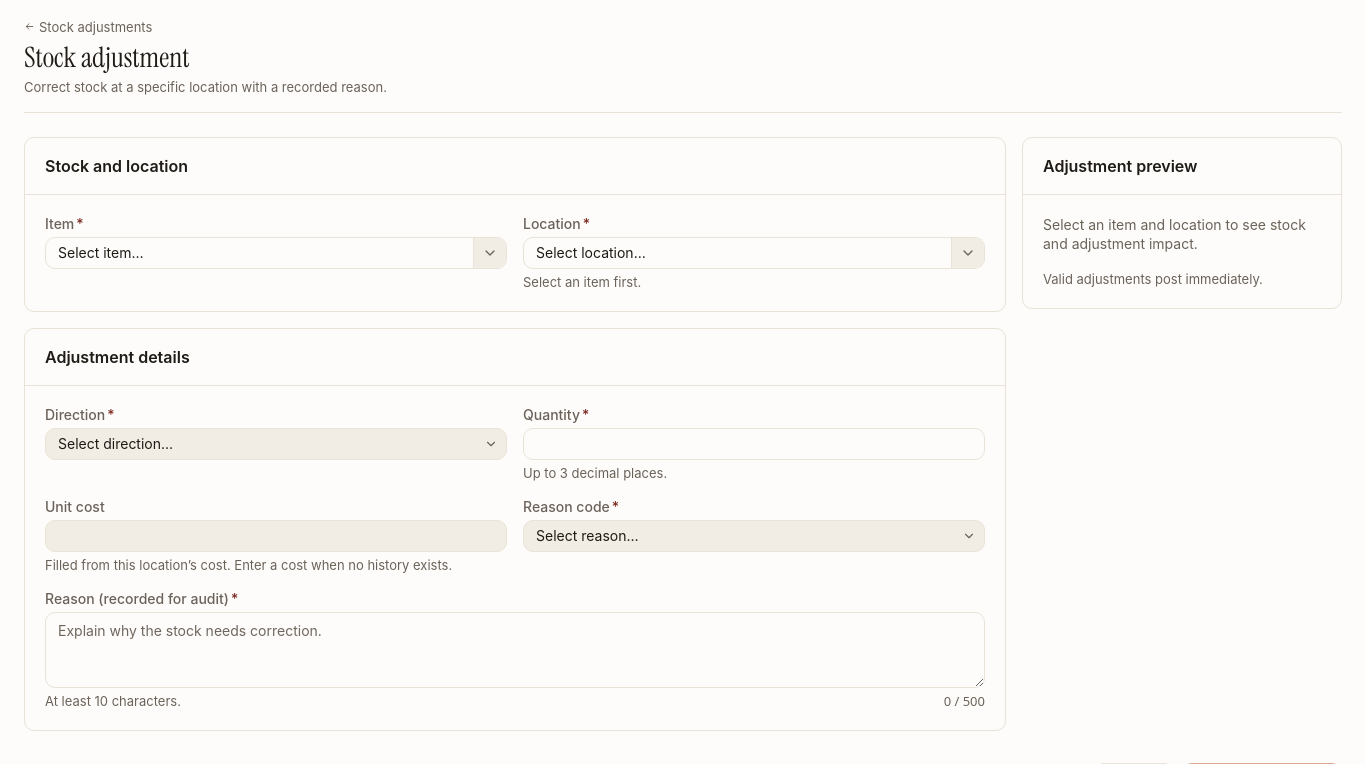
Test: autofills the only stocked location and its cost; outbound cost is read-only
The width and height of the screenshot is (1366, 764).
Focus the dropdown labelled "Item*" at (260, 252), box [46,238,473,268]
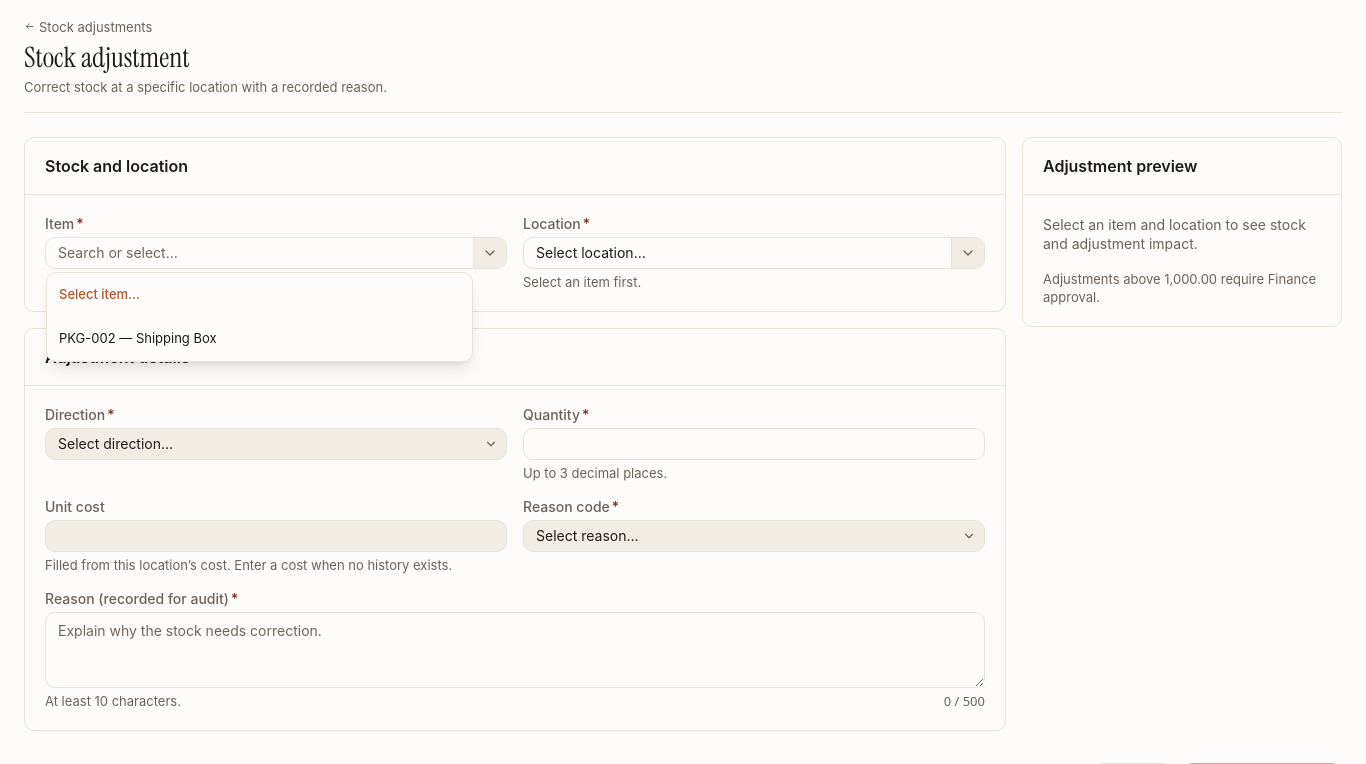
Click the option "PKG-002 — Shipping Box" at (138, 338), box [47,316,472,360]
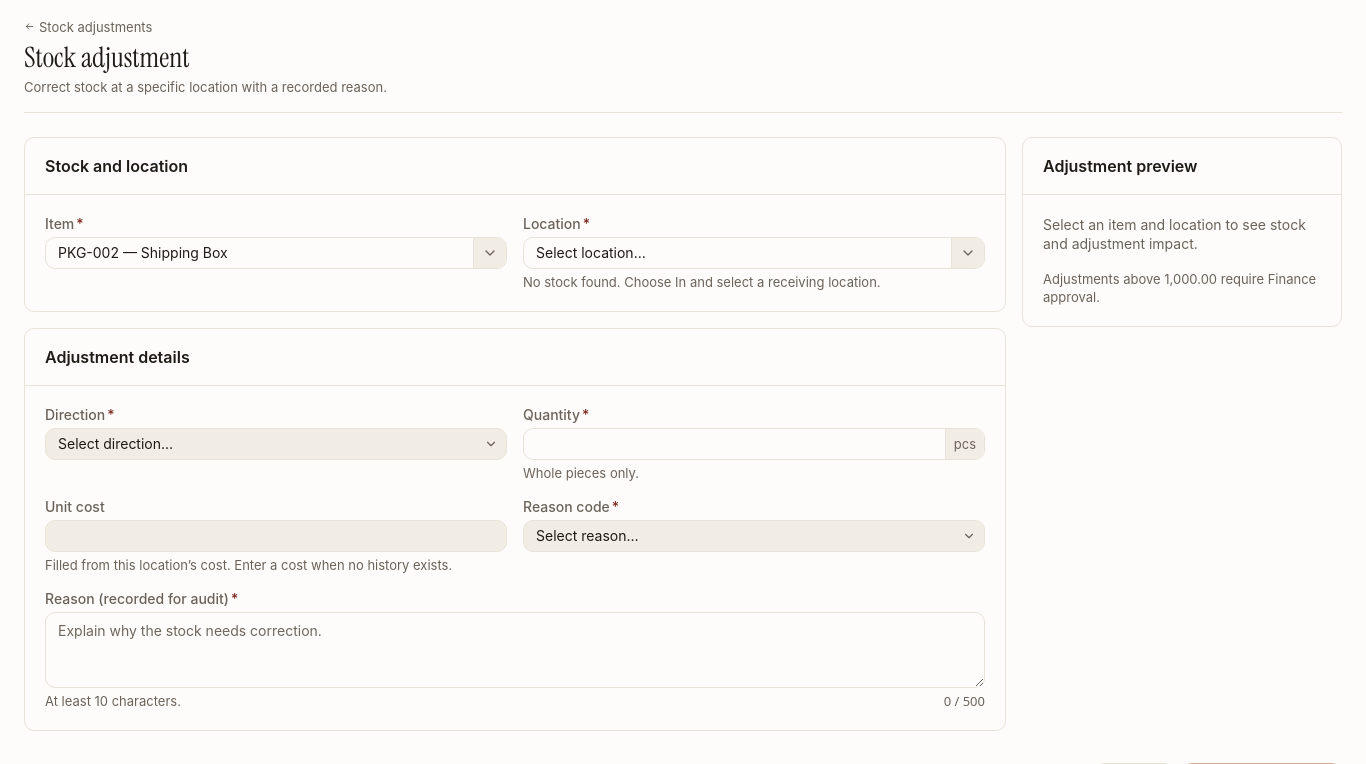
Select "Out" in the dropdown labelled "Direction*" at (276, 444), box [46,428,506,458]
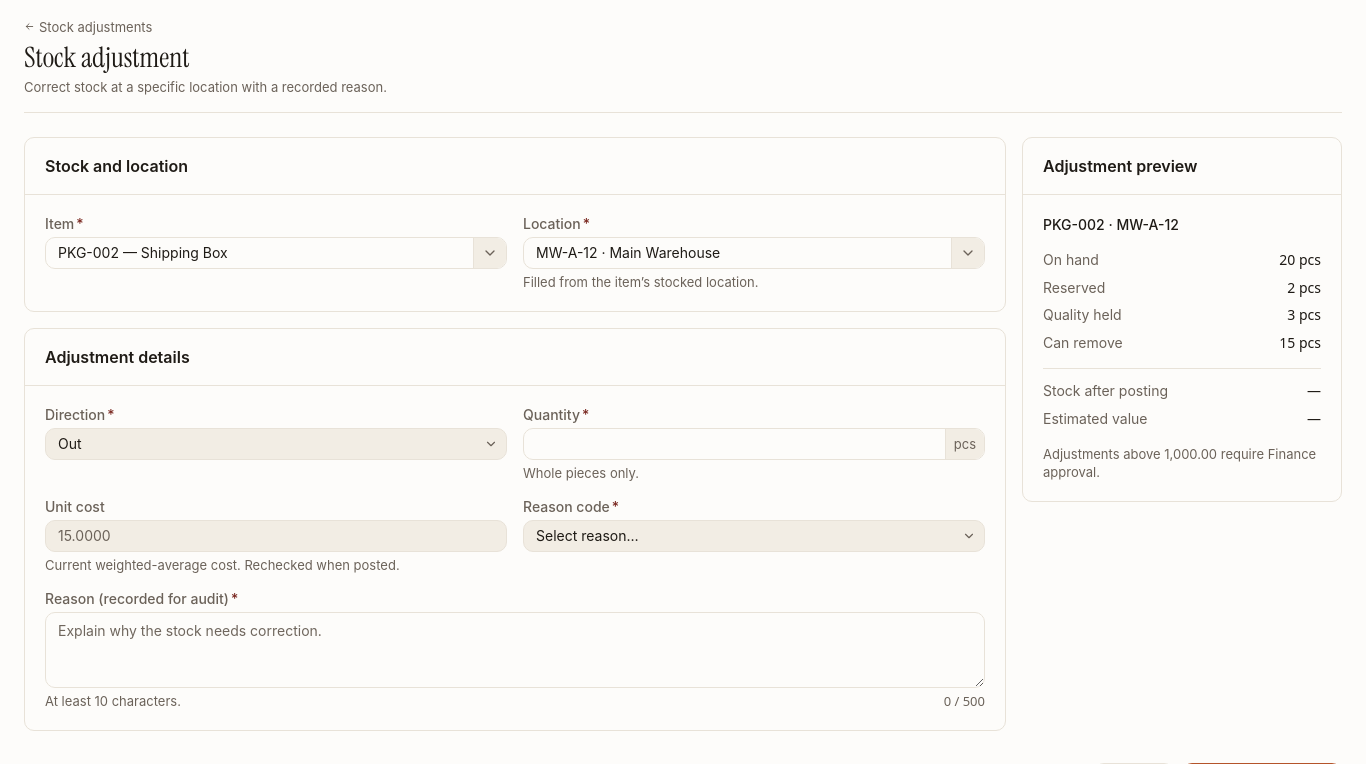
expect the dropdown labelled "Location*" holds "MW-A-12 · Main Warehouse": met, box [524,238,951,268]
expect the number field labelled "Unit cost" holds "15": met, box [46,520,506,550]
expect the text "15 pcs" is shown: met, box [1279,333,1321,352]
